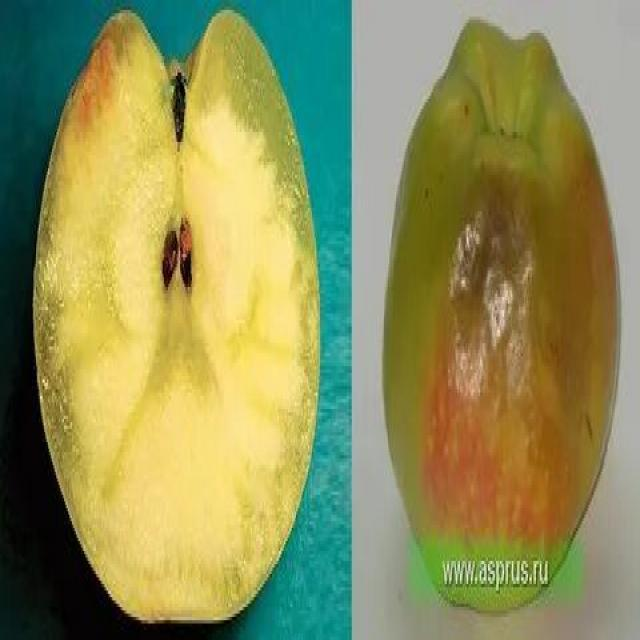Rotten: (40, 30, 322, 627), (386, 43, 633, 640)
